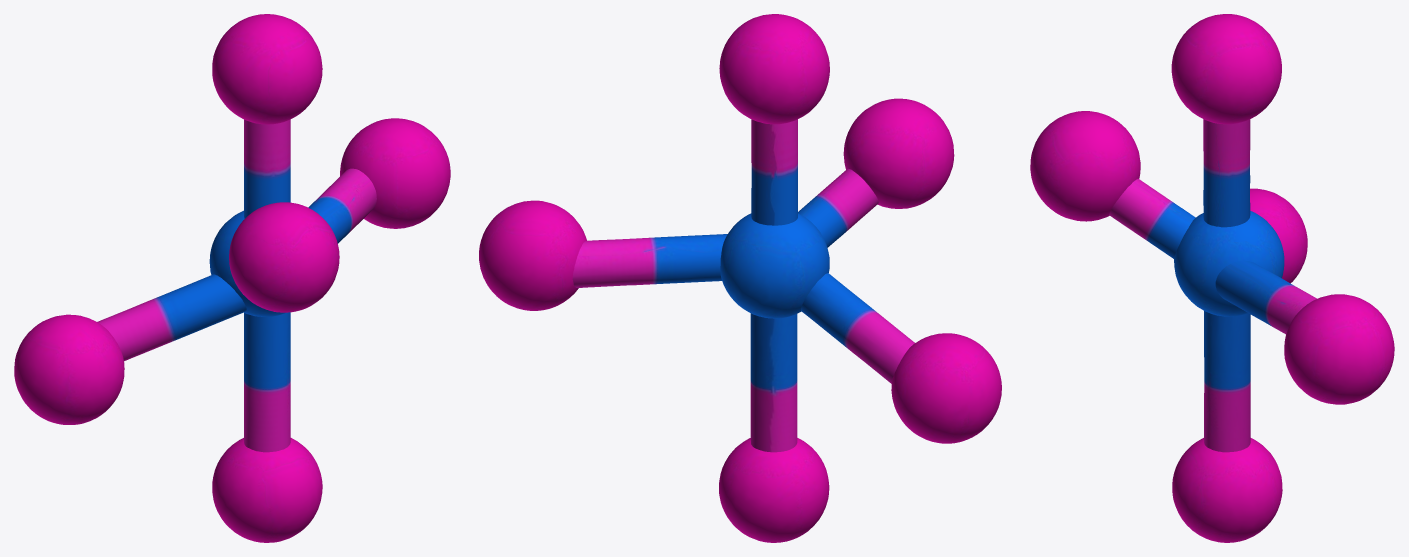
Rendered from pinkmolecule.glb.
3 views of the same model, side by side, from view 1: azimuth 30°, elevation 25°; view 2: azimuth 150°, elevation 25°; view 3: azimuth 270°, elevation 25° (orthographic).
Parts seen in each view (by area): view 1: Cylinder.1; view 2: Cylinder.1; view 3: Cylinder.1.
Part boxes in pixels (x1,y1,x2,y2): Cylinder.1: [14, 14, 450, 542]; Cylinder.1: [479, 14, 1001, 542]; Cylinder.1: [1030, 14, 1394, 542].
Bounding box in the file's own units: 1.75 × 1.87 × 1.19.
1 material, 1 textured.
